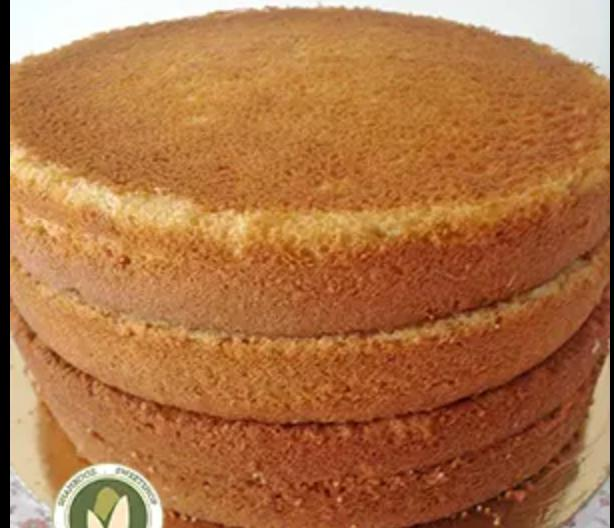Sponge Cake: (12, 8, 614, 528)
